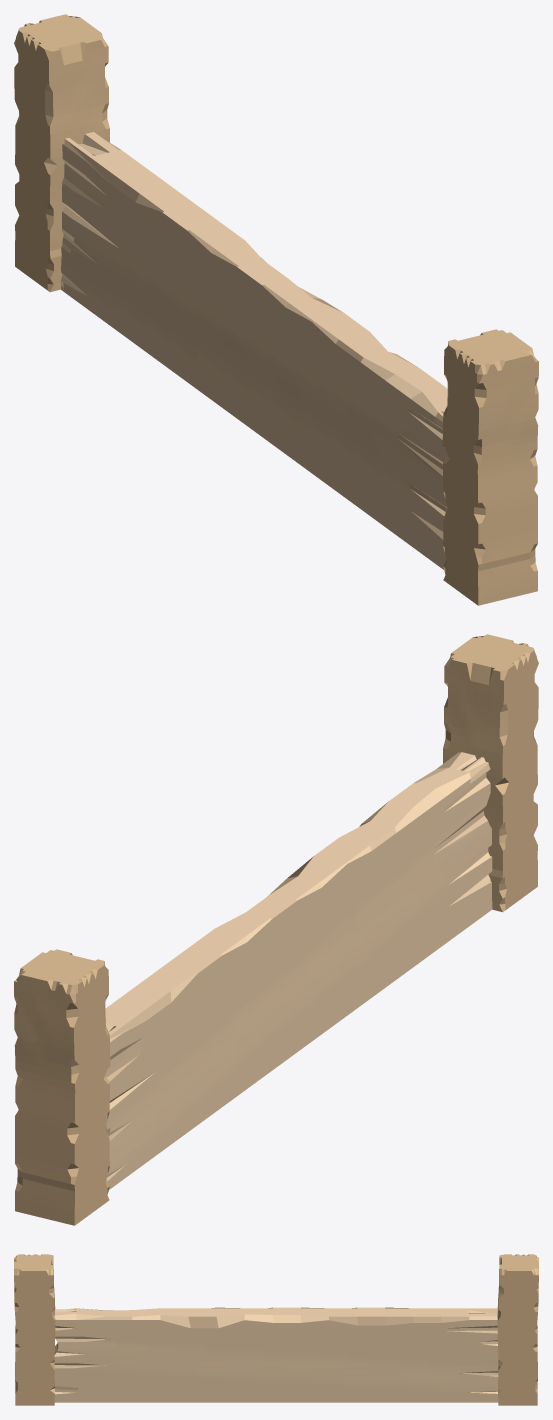
Rendered from DesertWall.fbx.
The picture shows the model from 3 angles, top to bottom: view 1: azimuth 30°, elevation 25°; view 2: azimuth 150°, elevation 25°; view 3: azimuth 270°, elevation 25°; orthographic projection. The views are drawn at different scales.
Visible parts, largest first — view 1: Cube.002, Cube.001; view 2: Cube.002, Cube.001; view 3: Cube.002, Cube.001.
Boxes of the visible parts, left/top/right/bottom form: Cube.002: left=60, top=132, right=447, bottom=569; Cube.001: left=14, top=14, right=538, bottom=605; Cube.002: left=105, top=752, right=492, bottom=1189; Cube.001: left=14, top=634, right=538, bottom=1225; Cube.002: left=54, top=1307, right=498, bottom=1402; Cube.001: left=14, top=1254, right=538, bottom=1405.
Bounding box in the file's own units: 114 × 438 × 1547.
